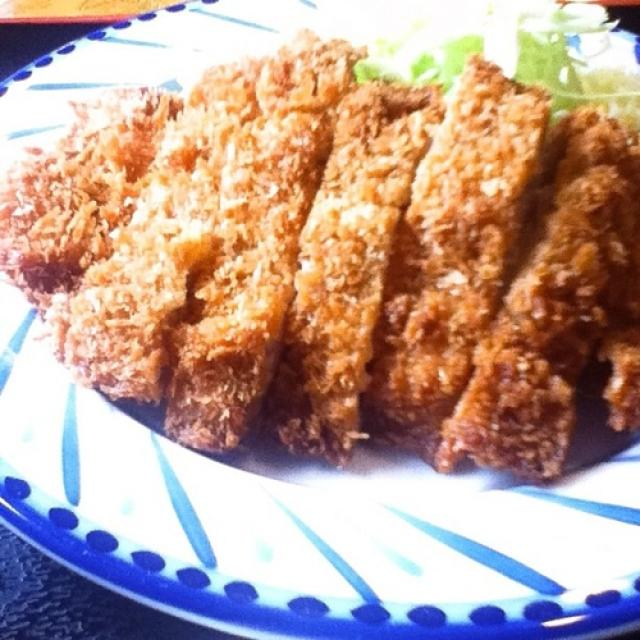鸡肉料理 含炸鸡: (11, 35, 635, 567)
